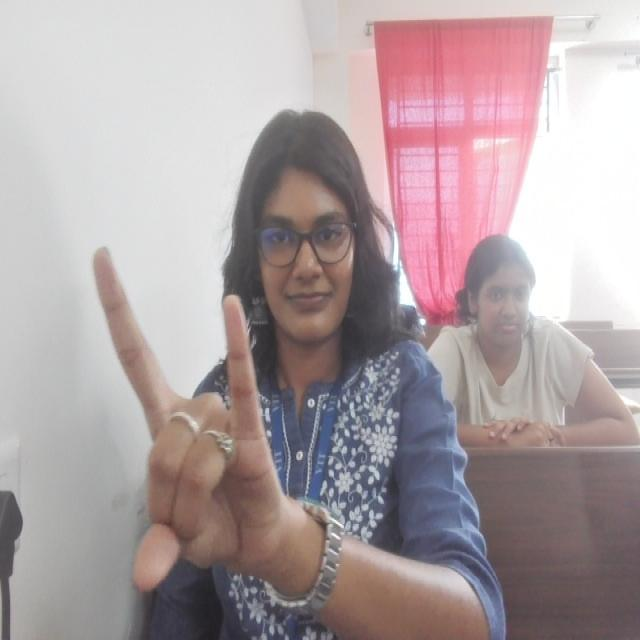iloveyou: (92, 243, 290, 599)
